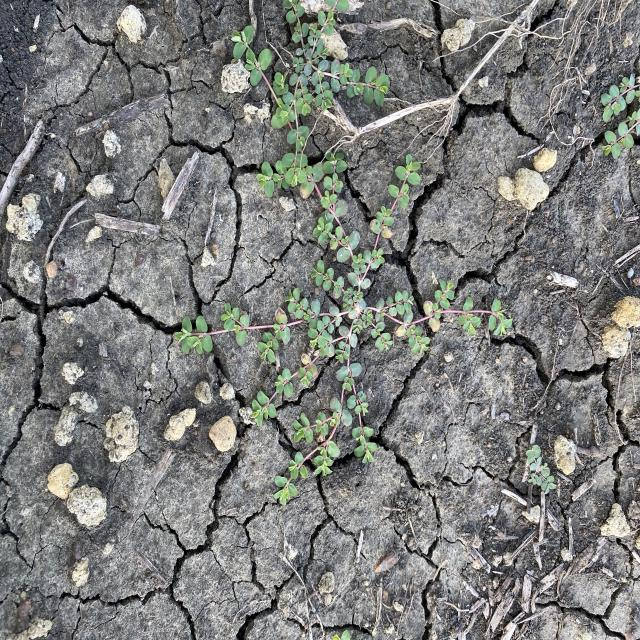SpottedSpurge: (175, 4, 515, 509), (600, 73, 639, 161), (524, 442, 559, 497)
